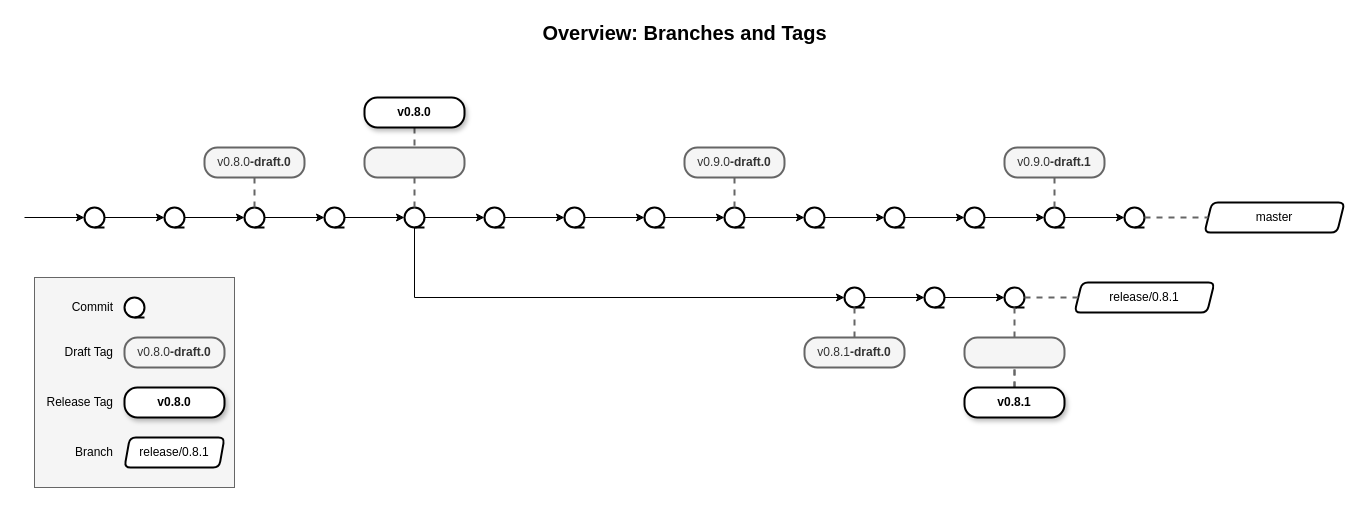
The diagram is 1363 pixels wide and 505 high, and some of its shapes have lost their labels. Each missing label, with the centre of its shape:
v0.8.0 -draft.1: point (414, 162)
v0.8.1 -draft.1: point (1014, 352)
